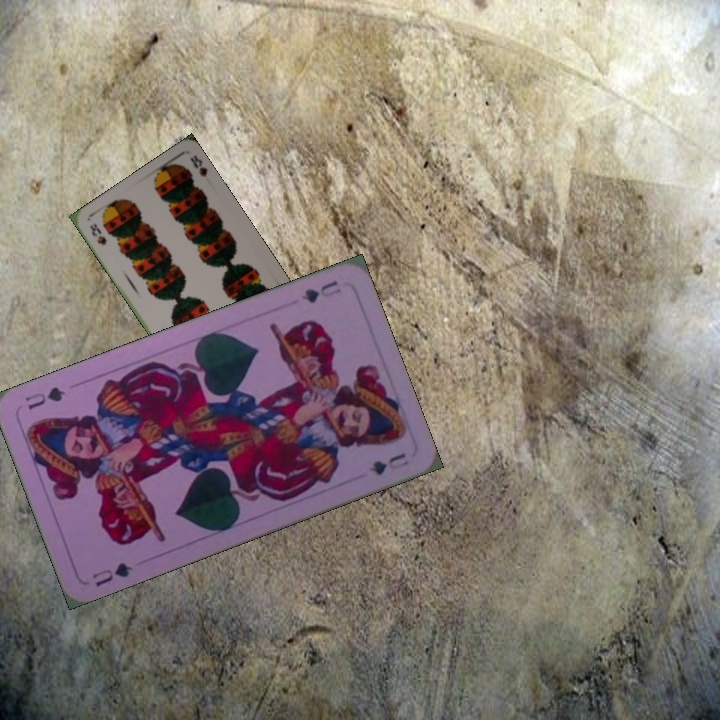GU: (88, 558, 135, 590), (297, 276, 344, 306)
S8: (85, 219, 109, 248)
